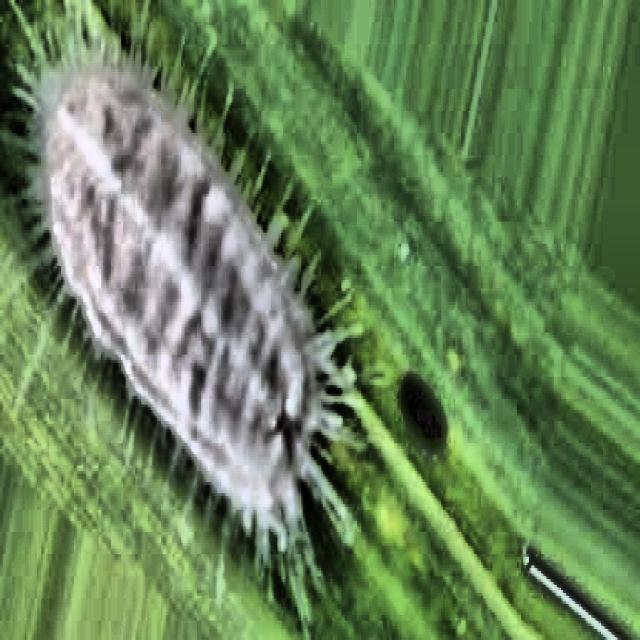Mealy-bug: (6, 21, 384, 611)
